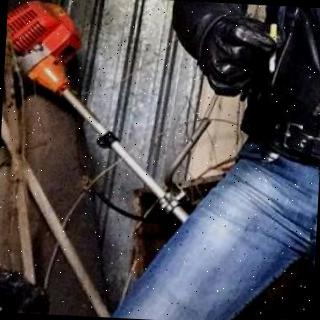smoke: (223, 3, 320, 39)
